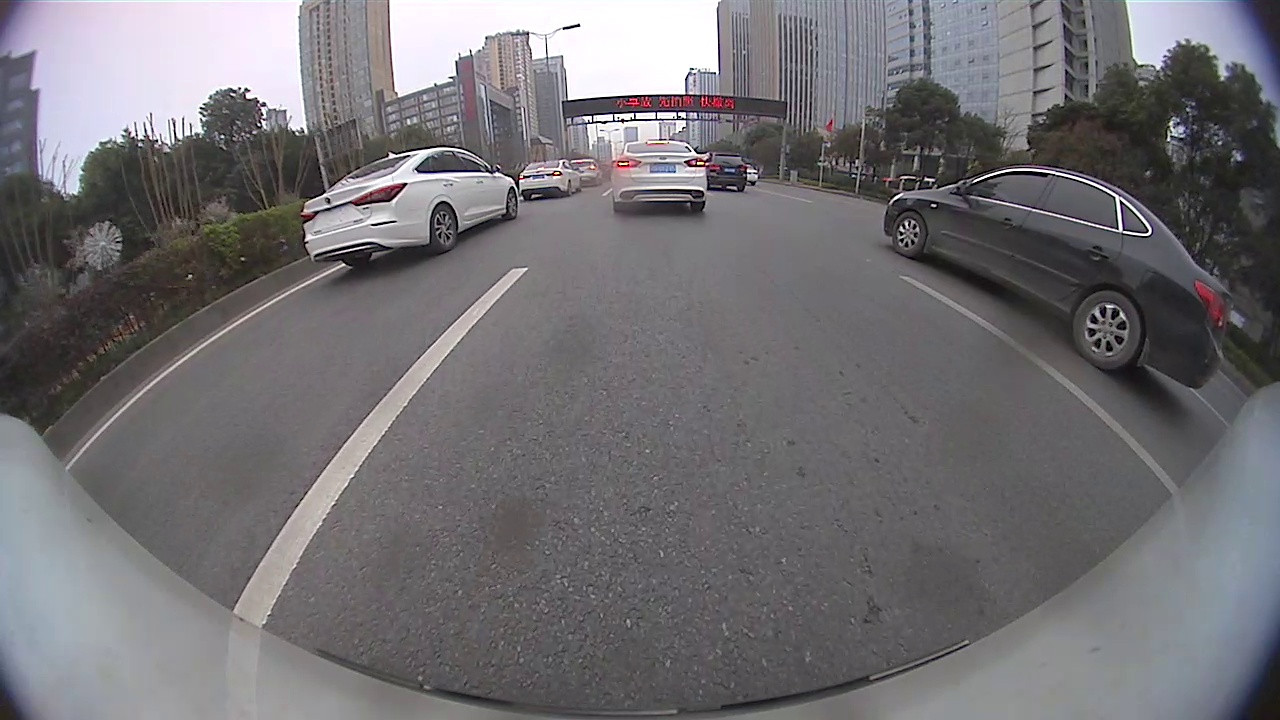car: (884, 164, 1233, 388), (301, 145, 520, 269), (612, 140, 709, 213), (519, 158, 581, 201), (703, 153, 748, 193), (567, 158, 605, 186)
front: (888, 211, 930, 261), (505, 184, 519, 224)
rear: (1071, 290, 1144, 373), (428, 201, 460, 253)
